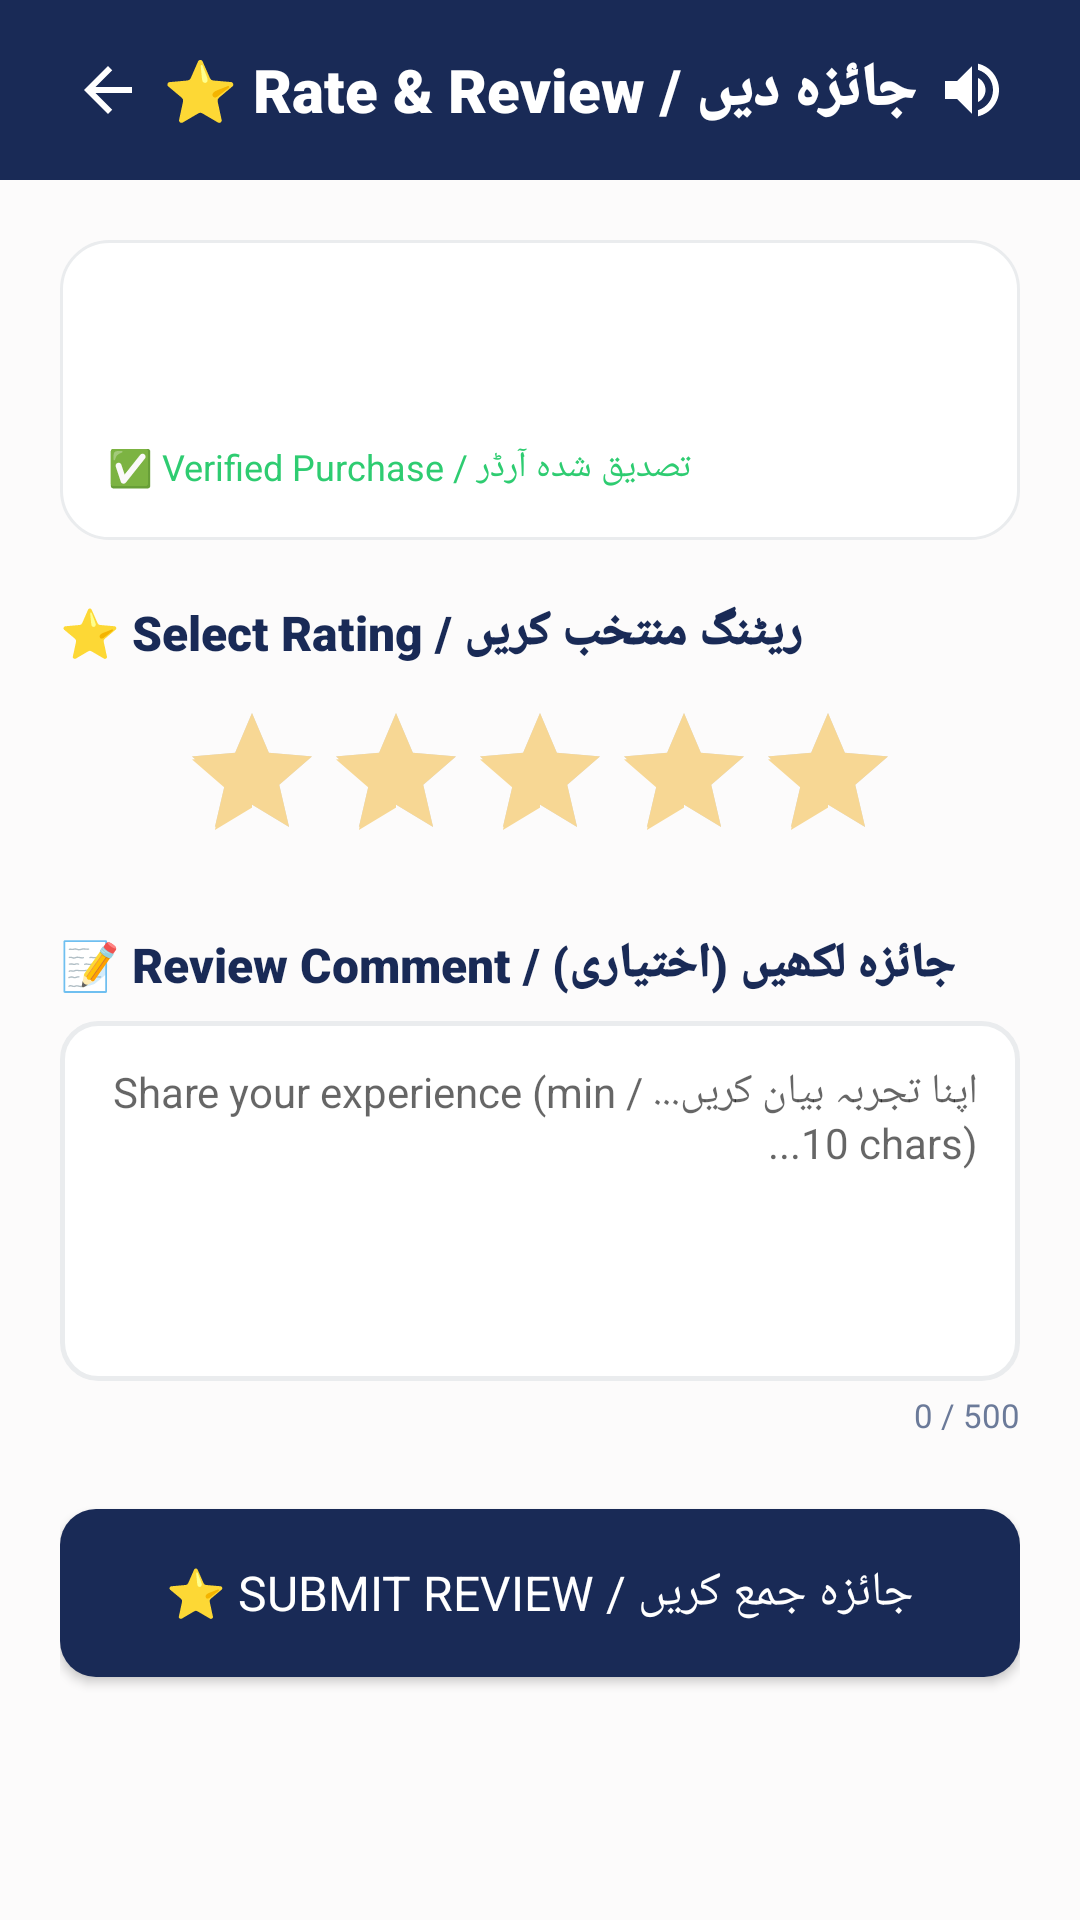

Point at icon controls on the screen. Image size 1080 × 1920, points as (x=x, y=y).
Back: (x=108, y=90)
Speaker: (x=972, y=90)
